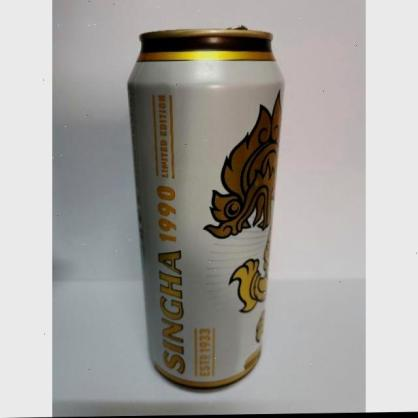can: (128, 28, 285, 395)
